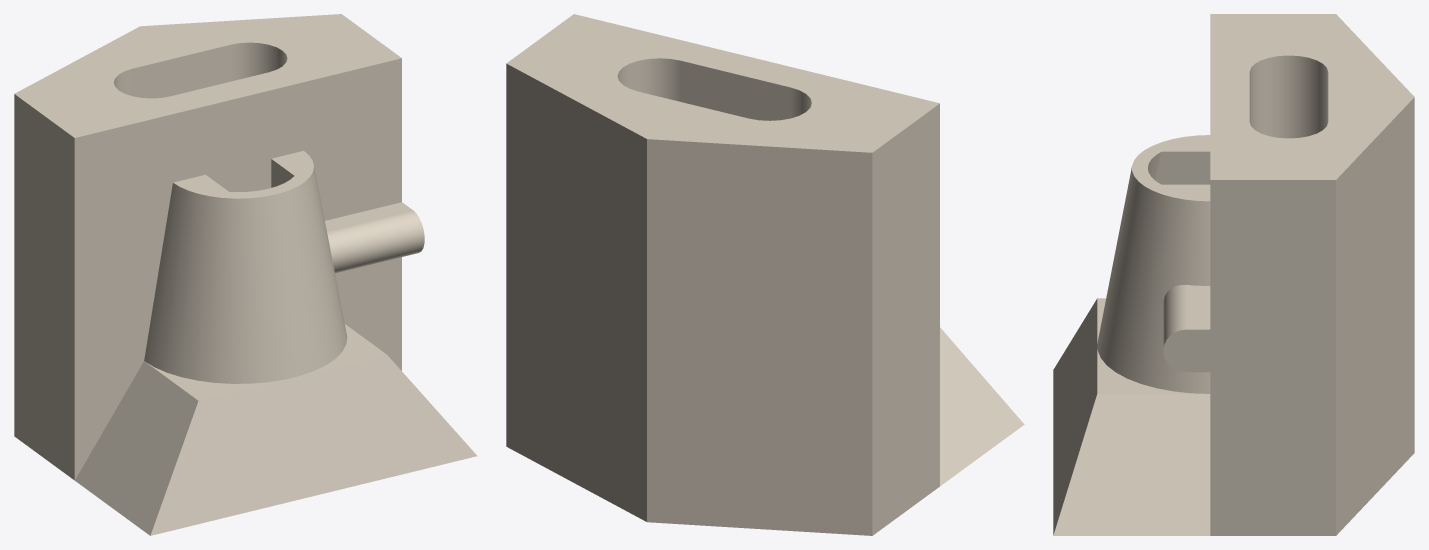
3 renders of one model, left to right at view 1: azimuth 30°, elevation 25°; view 2: azimuth 150°, elevation 25°; view 3: azimuth 270°, elevation 25°, orthographic. The views are drawn at different scales.
Visible parts, largest first — view 1: Flores_Robert_BG_HW1_P3; view 2: Flores_Robert_BG_HW1_P3; view 3: Flores_Robert_BG_HW1_P3.
Boxes of the visible parts, x1,y1,x2,y2 form: Flores_Robert_BG_HW1_P3: (14, 14, 477, 535); Flores_Robert_BG_HW1_P3: (506, 14, 1024, 535); Flores_Robert_BG_HW1_P3: (1053, 14, 1414, 535).
Size of the model in its own units: 0.05 by 0.05 by 0.046.
